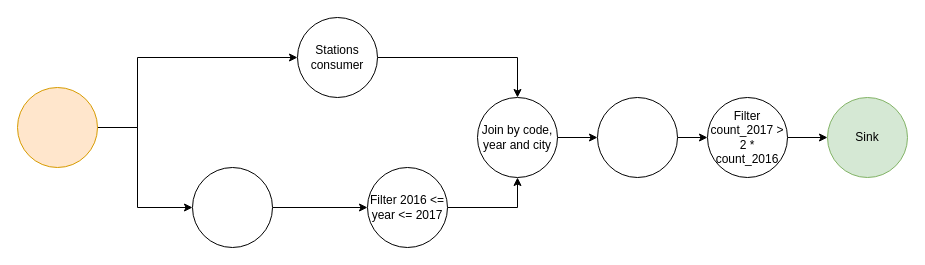
Image size: 925x265. Some labels were removed from this diagram. Each missing label, with the centre of its shape:
Source: (57,127)
Trip count by year: (637,137)
Trips consumer: (232,207)
